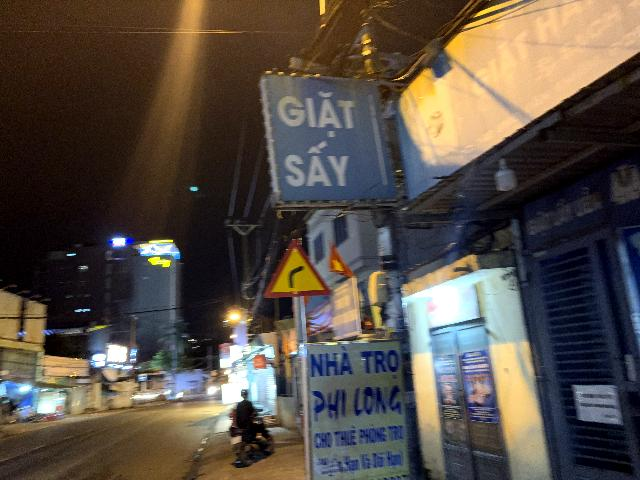cho-ngoat-nguy-hiem-ben-phai: (263, 239, 331, 297)
